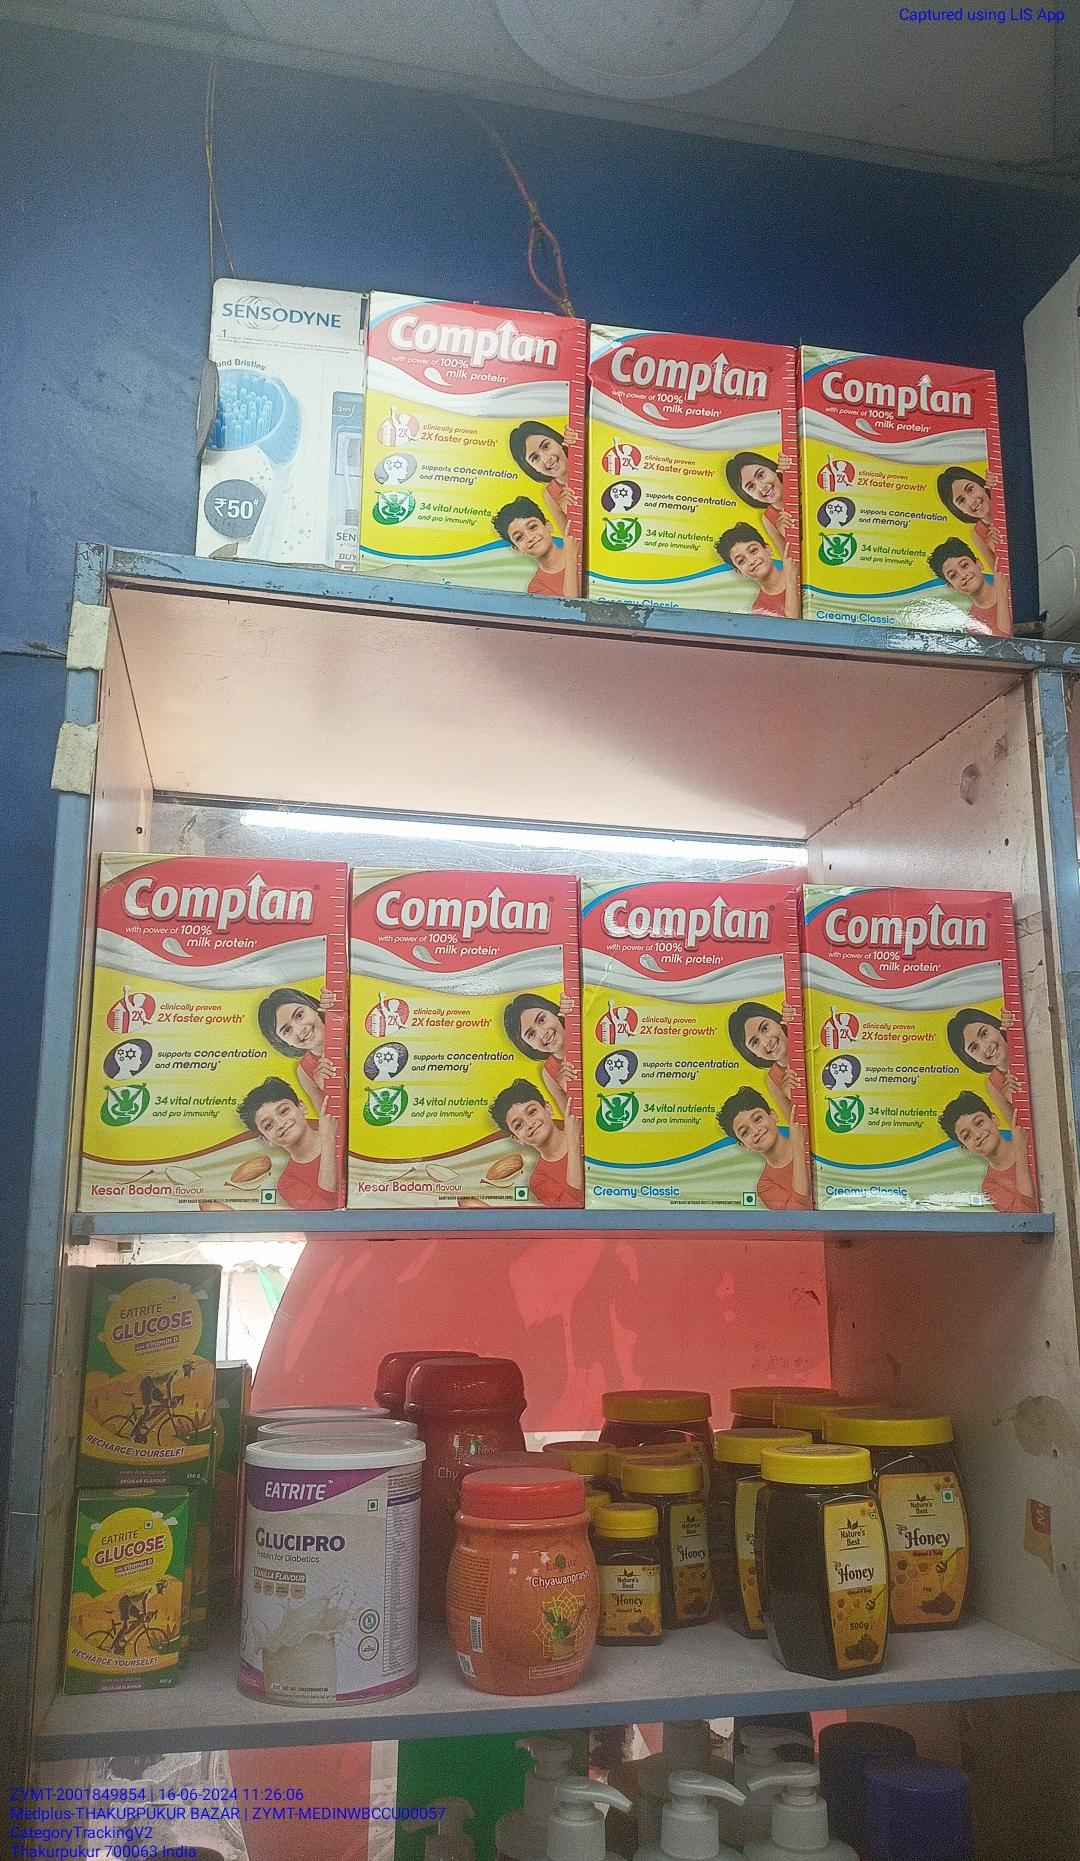COMPLAN_CREAMY_CLASSIC_500_G_PACK: (585, 884, 809, 1213), (818, 884, 1027, 1208), (366, 293, 590, 582), (805, 348, 1004, 631), (597, 325, 792, 608)
